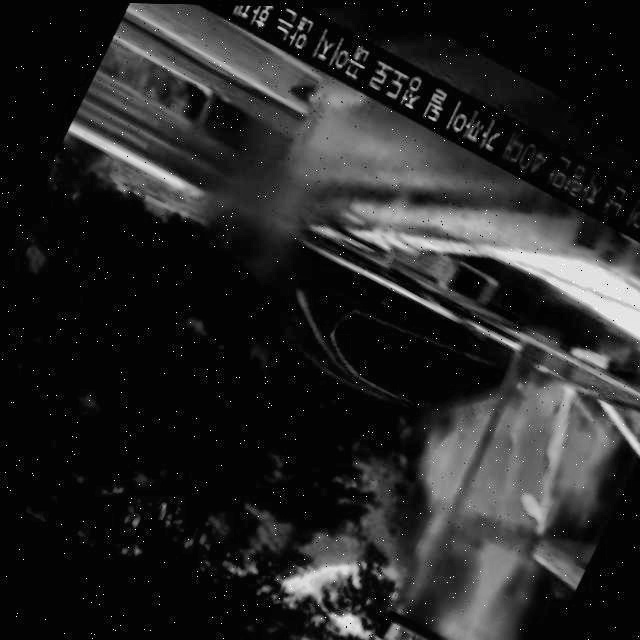Fire: (290, 331, 640, 640)
